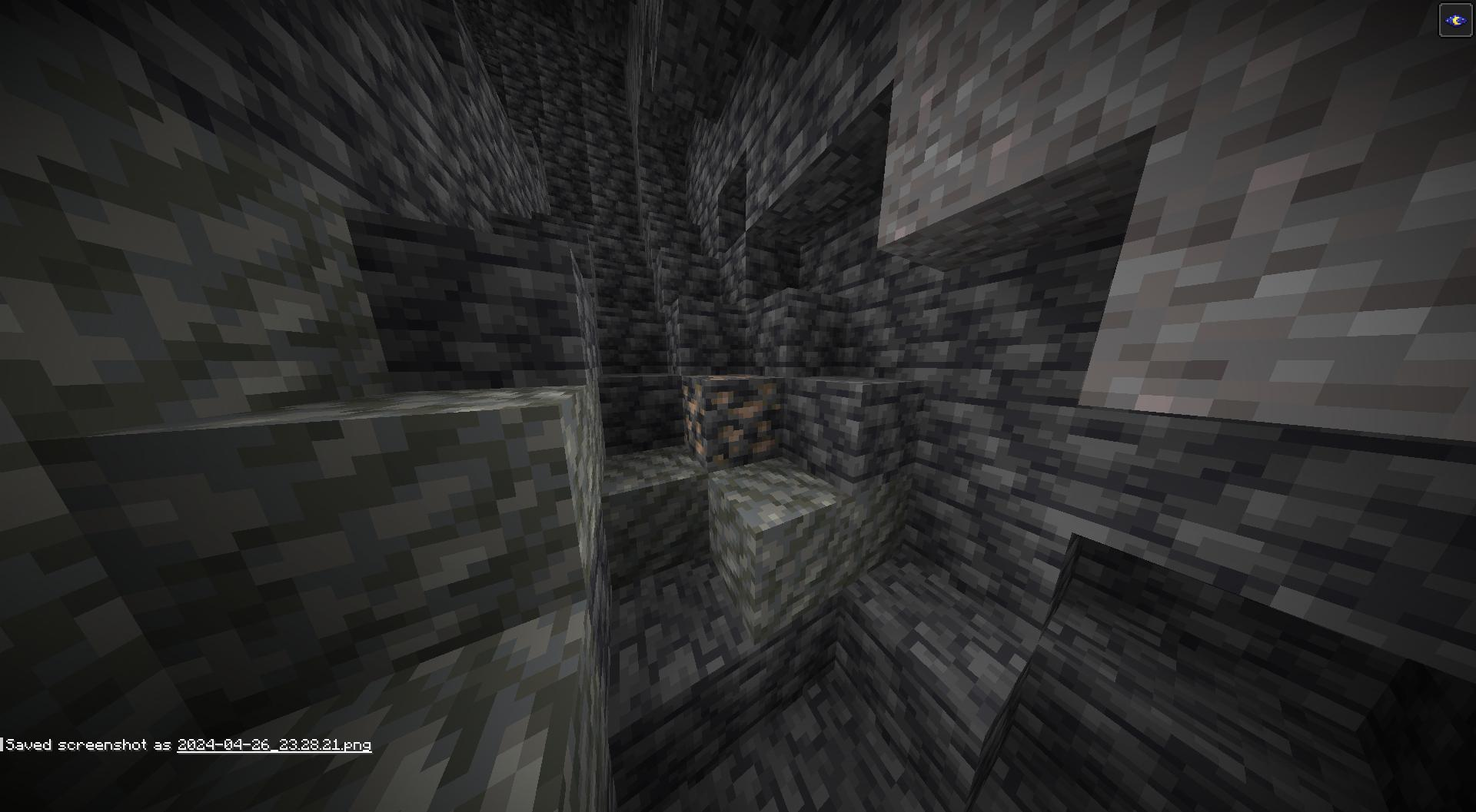iron ore: (676, 374, 786, 459)
